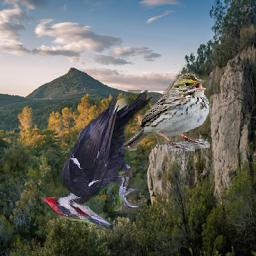Sparrow: (124, 69, 211, 151)
Woodpecker: (42, 91, 153, 232)
